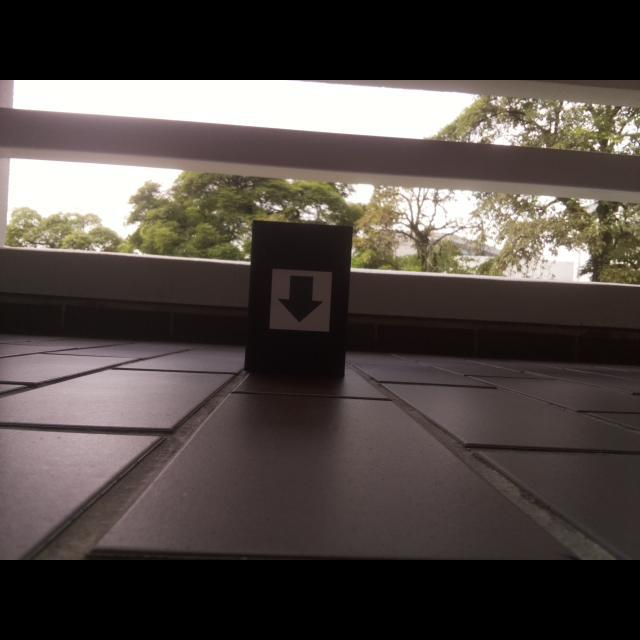DOWN: (277, 275, 324, 324)
